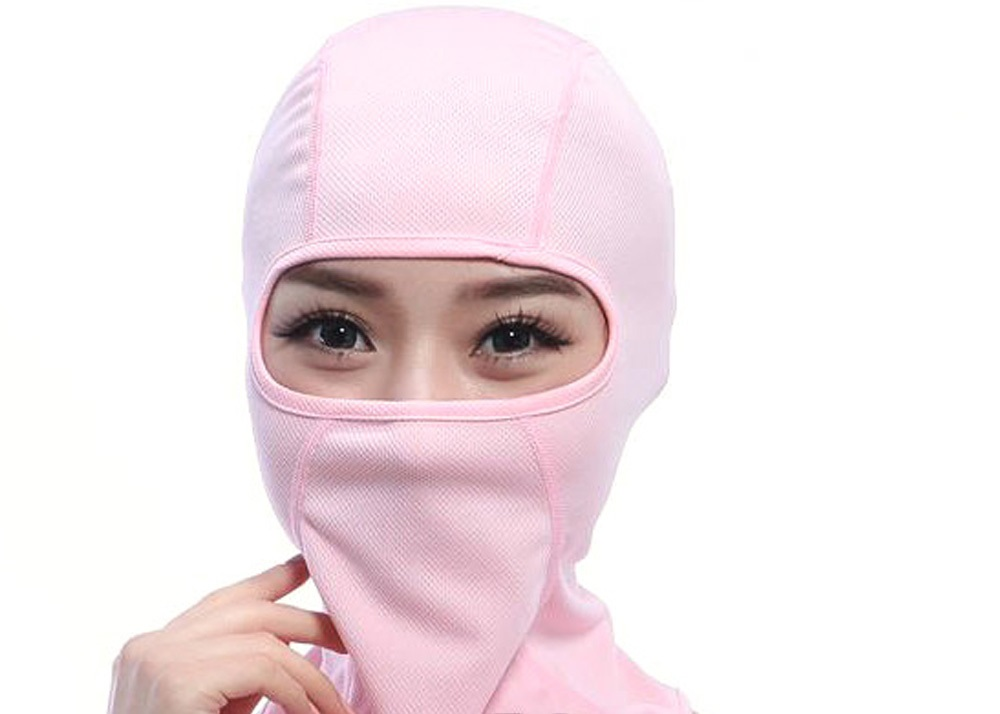face_mask: (242, 202, 640, 597)
